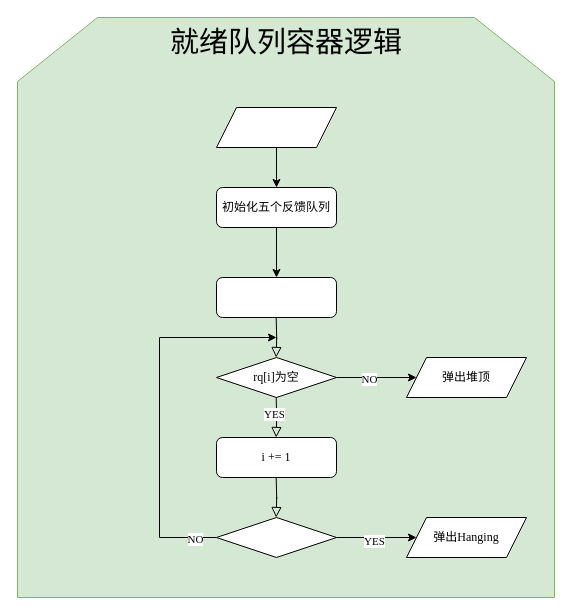
Image size: 572x615. Some labels were removed from this diagram. Here are the shapes that lost their labels. From the top down, the box of each, then its label:
(216, 106, 336, 148): 开始
(216, 276, 336, 318): i = 1
(216, 516, 336, 558): i==6?
